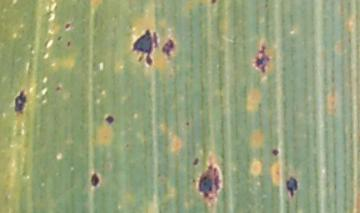tarspot: (198, 165, 221, 201), (134, 30, 153, 65), (254, 45, 270, 73), (14, 90, 27, 114), (286, 177, 297, 197), (162, 38, 174, 56), (89, 173, 100, 187), (104, 114, 114, 125), (153, 32, 159, 49), (192, 157, 200, 166), (271, 148, 279, 157), (65, 39, 72, 48), (55, 86, 62, 92), (64, 23, 70, 29), (56, 35, 62, 41), (185, 120, 190, 127), (210, 1, 217, 5), (192, 178, 196, 184)
